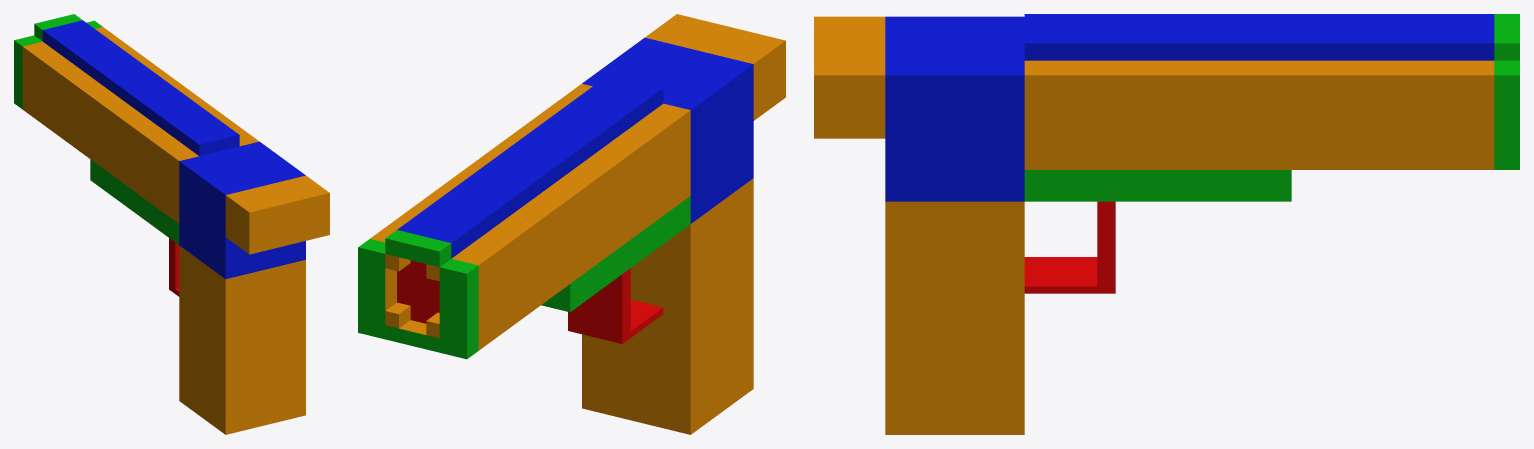
Rendered from game_weapon.fbx.
The picture shows the model from 3 angles, left to right: view 1: azimuth 30°, elevation 25°; view 2: azimuth 150°, elevation 25°; view 3: azimuth 270°, elevation 25°; orthographic projection. The views are drawn at different scales.
Visible parts, largest first — view 1: Cube.001; view 2: Cube.001; view 3: Cube.001.
Boxes of the visible parts, left/top/right/bottom form: Cube.001: left=14, top=14, right=329, bottom=434; Cube.001: left=358, top=14, right=785, bottom=434; Cube.001: left=814, top=14, right=1519, bottom=434.
Bounding box in the file's own units: 200 × 597 × 1014.
